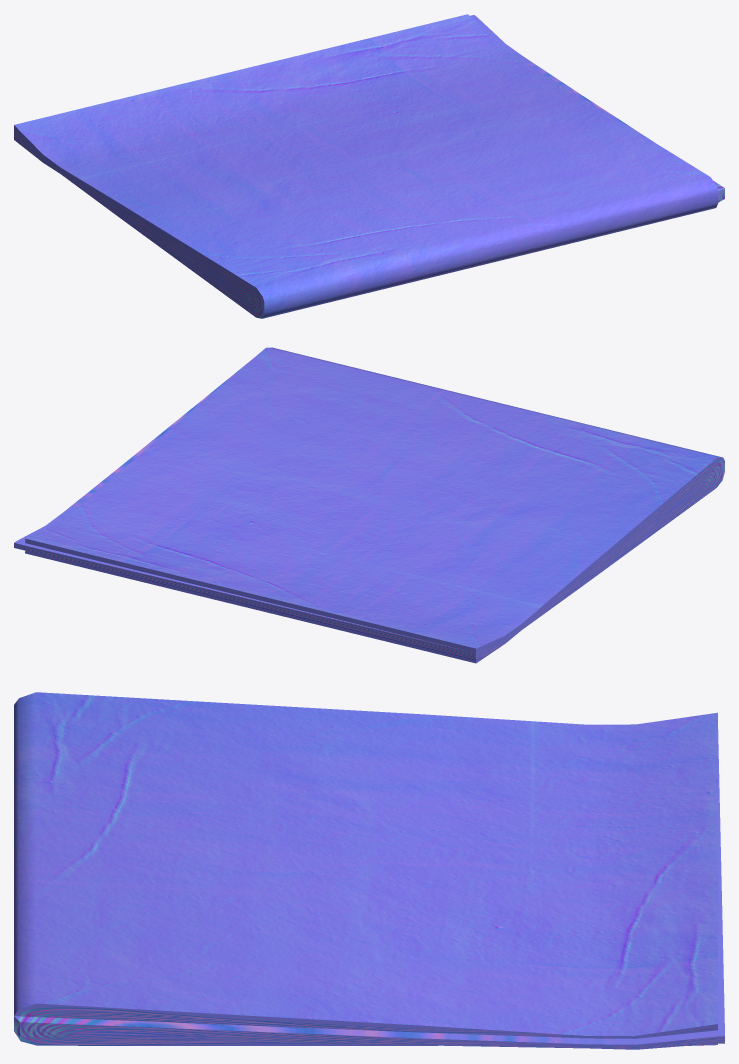
File: paper_news_d_01.FBX
3 renders of one model, top to bottom at view 1: azimuth 30°, elevation 25°; view 2: azimuth 150°, elevation 25°; view 3: azimuth 270°, elevation 25°, orthographic. The views are drawn at different scales.
Parts seen in each view (by area): view 1: paper_news_d_01; view 2: paper_news_d_01; view 3: paper_news_d_01.
Part boxes in pixels (<box>): paper_news_d_01: <box>14,14,724,318</box>; paper_news_d_01: <box>14,347,724,663</box>; paper_news_d_01: <box>14,692,724,1049</box>.
Size of the model in its own units: 0.3424 by 0.0221 by 0.3243.
